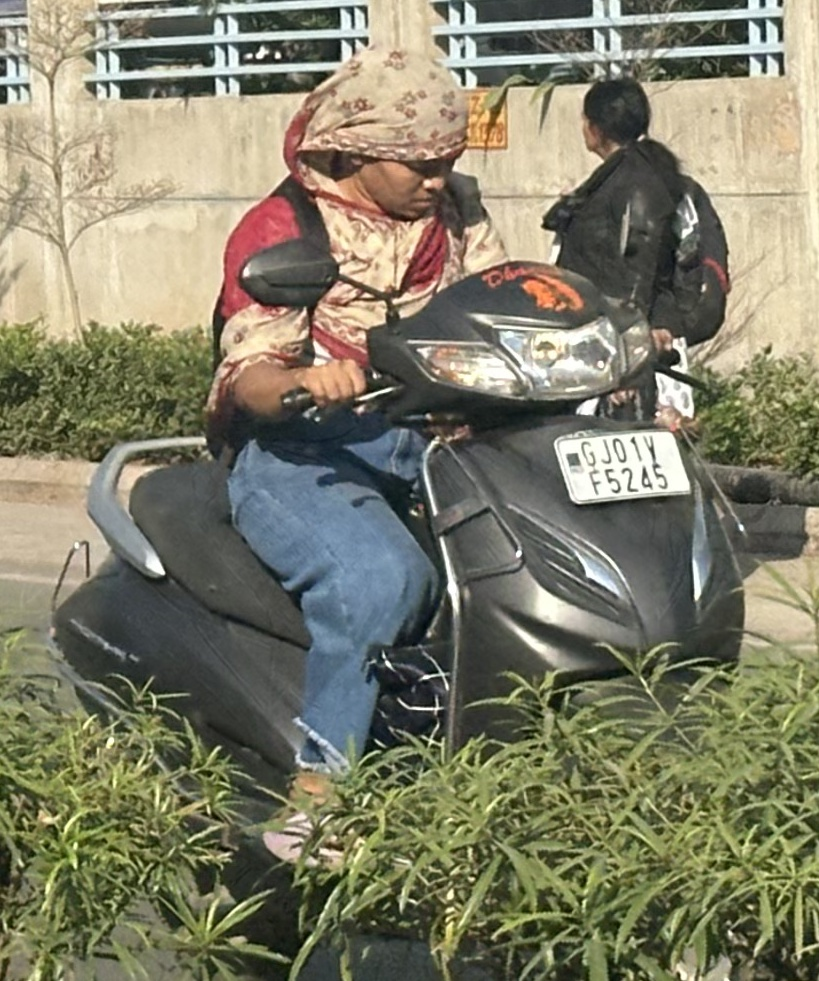BikeWithRider: (31, 31, 770, 978)
NoHelmet: (265, 37, 488, 226)
